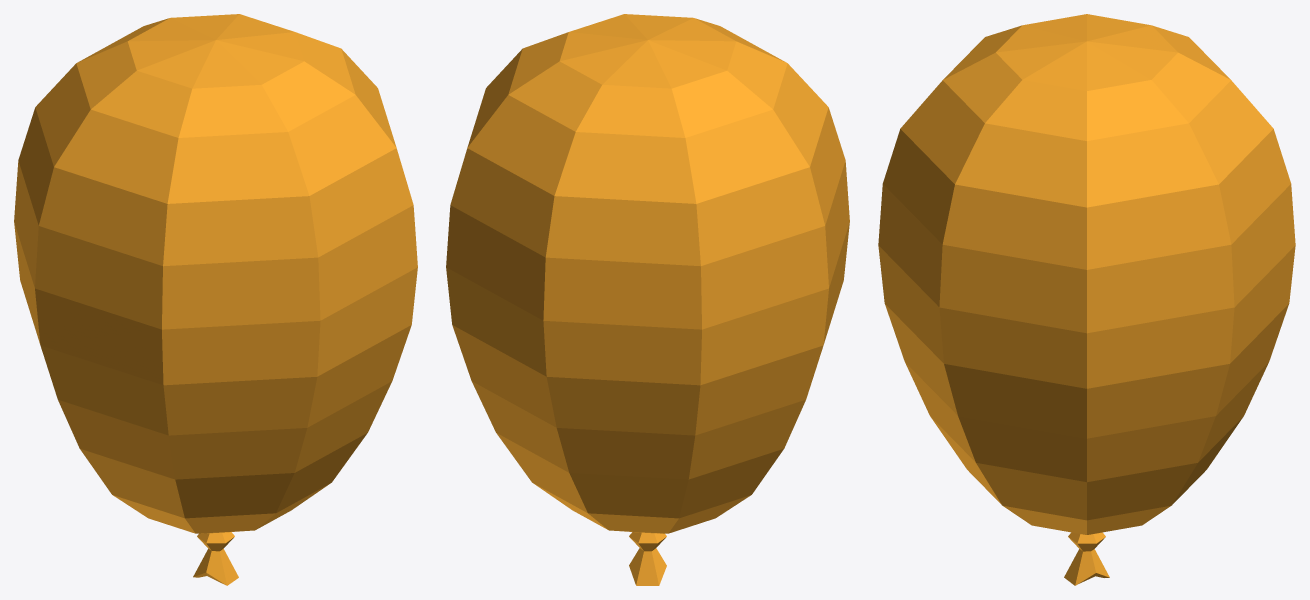
Rendered from SM_Balloon_Small_Stripes.fbx.
3 renders of one model, left to right at view 1: azimuth 30°, elevation 25°; view 2: azimuth 150°, elevation 25°; view 3: azimuth 270°, elevation 25°, orthographic.
Parts seen in each view (by area): view 1: balloon-small-stripes; view 2: balloon-small-stripes; view 3: balloon-small-stripes.
Part boxes in pixels (x1,y1,x2,y2): balloon-small-stripes: (14, 14, 417, 585); balloon-small-stripes: (446, 14, 849, 585); balloon-small-stripes: (878, 14, 1295, 585).
Bounding box in the file's own units: 0.2665 × 0.3781 × 0.2665.
